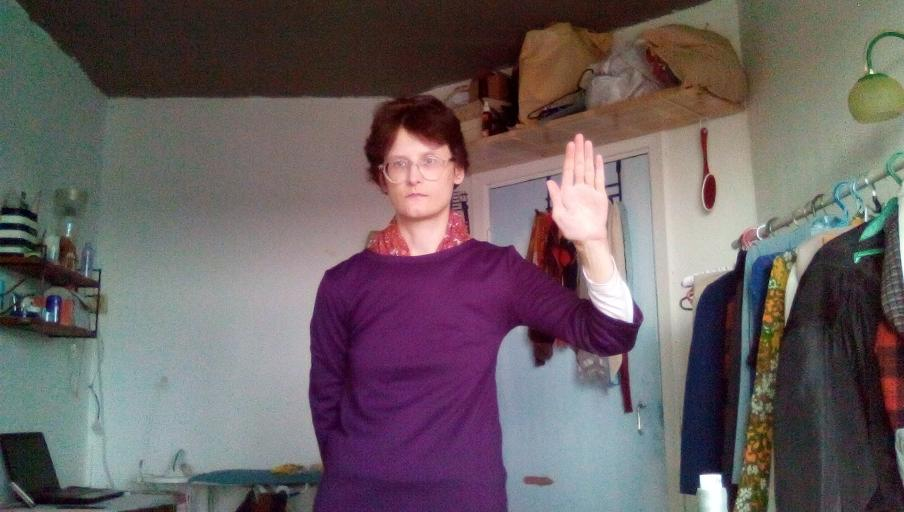stop: (541, 127, 615, 246)
